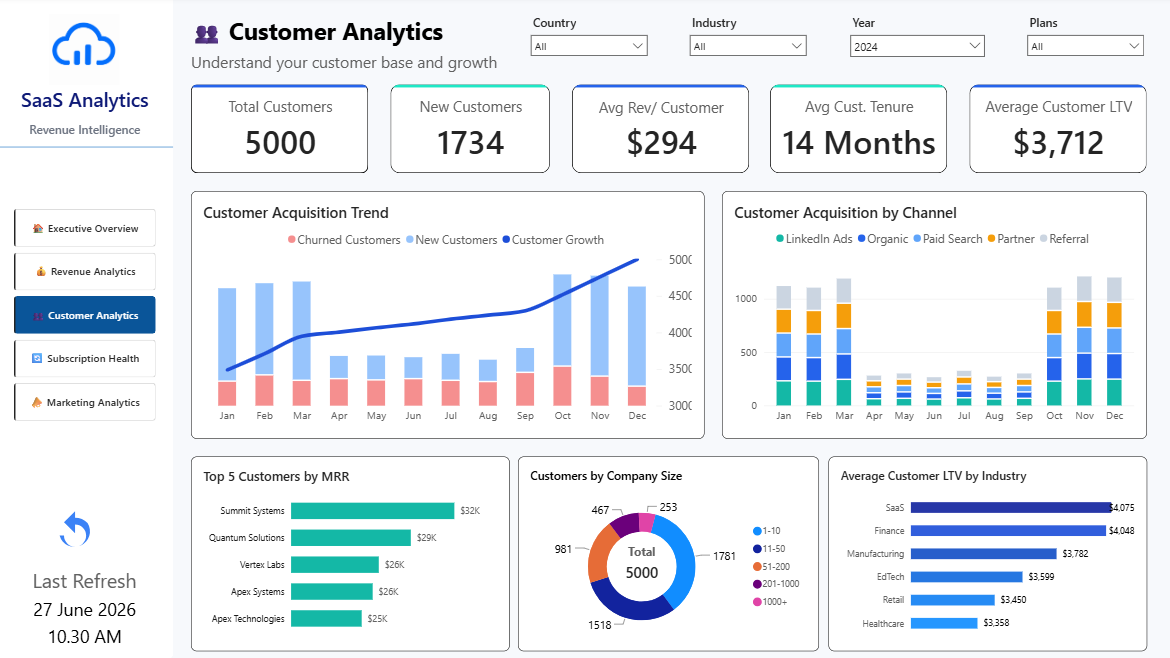

The page's visual inventory and layout, read from the dashboard file:
{"tool":"powerbi","page":{"name":"👥 Customer Analytics","canvas":[1600,900],"ordinal":2},"visuals":[{"type":"cardVisual","fields":{"Data":["_Measures_Executive.Active Customers"]},"box":[264,120,240,120],"z":0},{"type":"cardVisual","fields":{"Data":["_Measures_Customers.New_Customers"]},"box":[534,120,216,120],"z":1000},{"type":"cardVisual","fields":{"Data":["_Measures_Customers.ARPC"]},"box":[780,120,240,120],"z":2000},{"type":"cardVisual","fields":{"Data":["_Measures_Customers.Average Customer Tenure Display"]},"box":[1050,120,240,120],"z":3000},{"type":"textbox","box":[264,24,456,120],"z":4000},{"type":"shape","box":[0,-12,240,912],"z":5000},{"type":"textbox","box":[24,120,192,96],"z":6000},{"type":"shape","box":[0,168,240,72],"z":7000},{"type":"image","box":[72,24,96,96],"z":8000},{"type":"pageNavigator","box":[24,288,192,290],"z":9000},{"type":"slicer","fields":{"Values":["customers.country"]},"box":[720,24,168,72],"z":10000},{"type":"slicer","fields":{"Values":["customers.industry"]},"box":[936,24,168,72],"z":11000},{"type":"slicer","fields":{"Values":["Dim_Date.Year"]},"box":[1152,24,192,72],"z":12000},{"type":"slicer","fields":{"Values":["subscriptions.plan_type"]},"box":[1392,24,168,72],"z":13000},{"type":"cardVisual","fields":{"Data":["_Measures_Customers.Average Customer LTV"]},"box":[1320,120,240,120],"z":14000},{"type":"clusteredBarChart","title":"Top 5 Customers by MRR","fields":{"Category":["customers.company_name"],"Y":["_Measures_Executive.Total MRR"]},"box":[264,624,432,264],"z":15000},{"type":"clusteredBarChart","title":"Average Customer LTV by Industry","fields":{"Category":["customers.industry"],"Y":["_Measures_Customers.Average Customer LTV"]},"box":[1128,624,432,264],"z":16000},{"type":"textbox","box":[0,660,240,240],"z":17000},{"type":"image","box":[72,696,72,72],"z":18000},{"type":"lineStackedColumnComboChart","title":"Customer Acquisition Trend","fields":{"Category":["Dim_Date.Month Name"],"Y2":["_Measures_Customers.Customer Growth"],"Y":["_Measures_Customers.Churned Customers","_Measures_Customers.New Customers"]},"box":[264,264,696,336],"z":19000},{"type":"donutChart","title":"Customers by Company Size","fields":{"Category":["customers.employee_size"],"Y":["_Measures_Executive.Active Customers"]},"box":[708,624,408,264],"z":20000},{"type":"columnChart","title":"Customer Acquisition by Channel","fields":{"Series":["subscriptions.acquisition_channel"],"Y":["_Measures_Customers.New Customers"],"Category":["Dim_Date.Month Name"]},"box":[984,264,576,336],"z":21000},{"type":"cardVisual","fields":{"Data":["_Measures_Executive.Active Customers"]},"box":[816,720,120,96],"z":22000}]}

Visuals, with their boxes in screenshot pixels (x1, y1, x2, y2), scaled from the page's 1600x900 canvas onto the 1170x658 screenshot:
cardVisual - _Measures_Executive.Active Customers: [193,88,369,175]
cardVisual - _Measures_Customers.New_Customers: [390,88,548,175]
cardVisual - _Measures_Customers.ARPC: [570,88,746,175]
cardVisual - _Measures_Customers.Average Customer Tenure Display: [768,88,943,175]
textbox: [193,18,526,105]
shape: [0,0,176,657]
textbox: [18,88,158,158]
shape: [0,123,176,175]
image: [53,18,123,88]
pageNavigator: [18,211,158,423]
slicer - customers.country: [526,18,649,70]
slicer - customers.industry: [684,18,807,70]
slicer - Dim_Date.Year: [842,18,983,70]
slicer - subscriptions.plan_type: [1018,18,1141,70]
cardVisual - _Measures_Customers.Average Customer LTV: [965,88,1141,175]
"Top 5 Customers by MRR" clusteredBarChart: [193,456,509,649]
"Average Customer LTV by Industry" clusteredBarChart: [825,456,1141,649]
textbox: [0,483,176,657]
image: [53,509,105,561]
"Customer Acquisition Trend" lineStackedColumnComboChart: [193,193,702,439]
"Customers by Company Size" donutChart: [518,456,816,649]
"Customer Acquisition by Channel" columnChart: [720,193,1141,439]
cardVisual - _Measures_Executive.Active Customers: [597,526,684,597]
